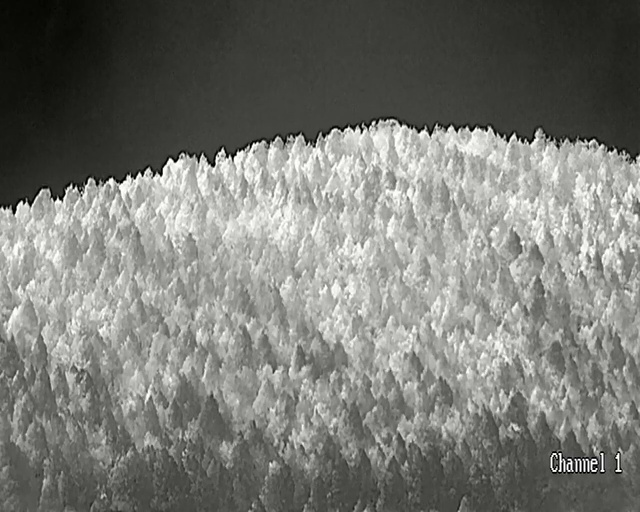uav: (558, 143, 560, 145)
